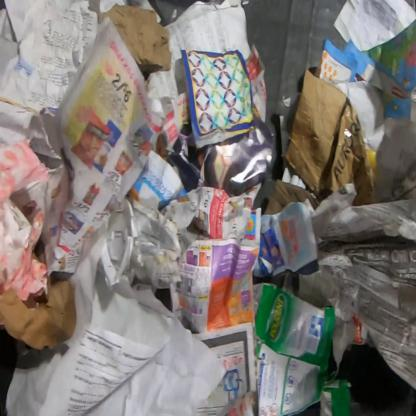cardboard: (253, 282, 354, 415), (280, 67, 375, 207), (0, 273, 78, 354), (98, 4, 172, 81), (263, 178, 322, 216)
